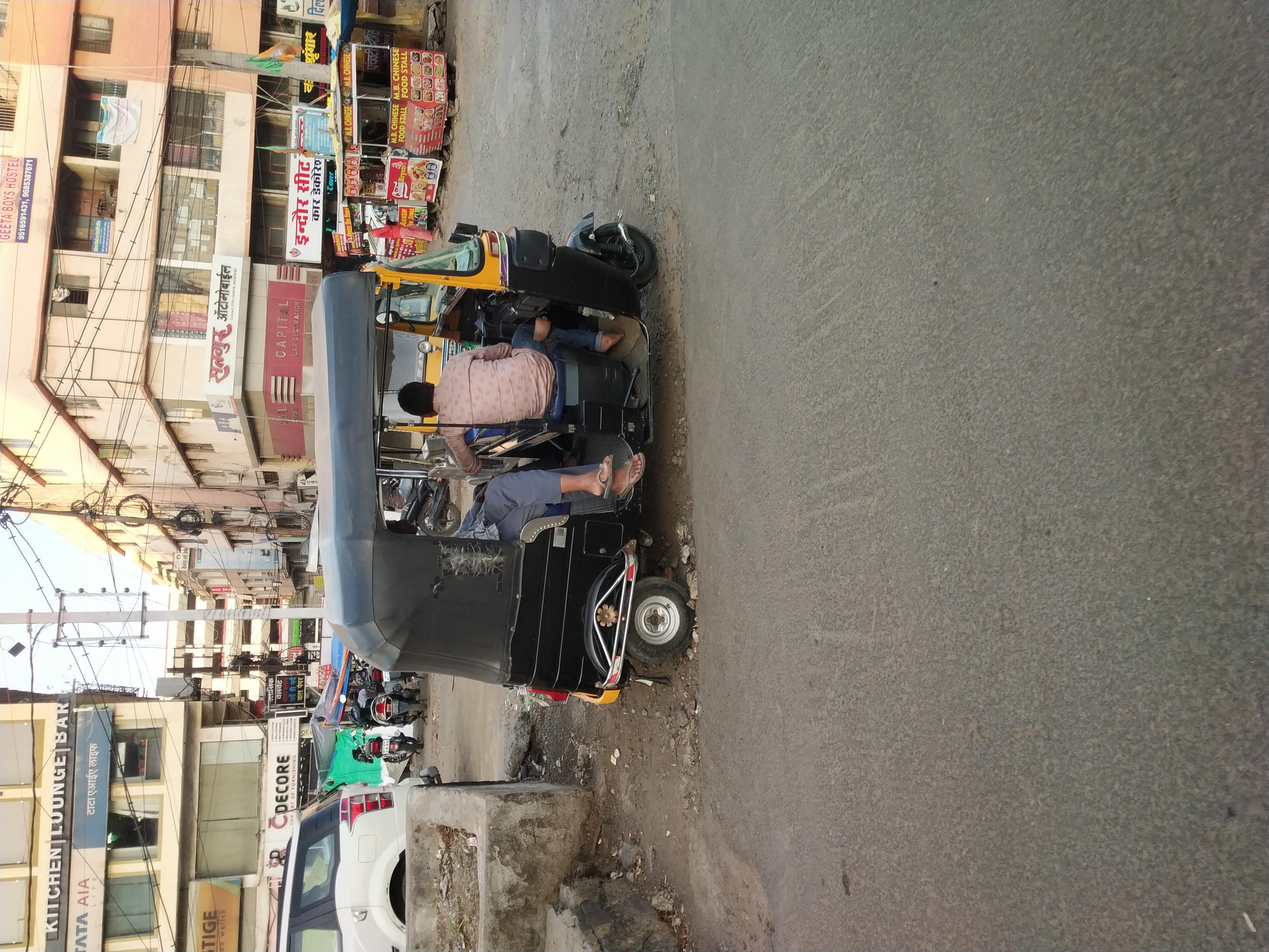Auto: (298, 228, 1032, 537)
